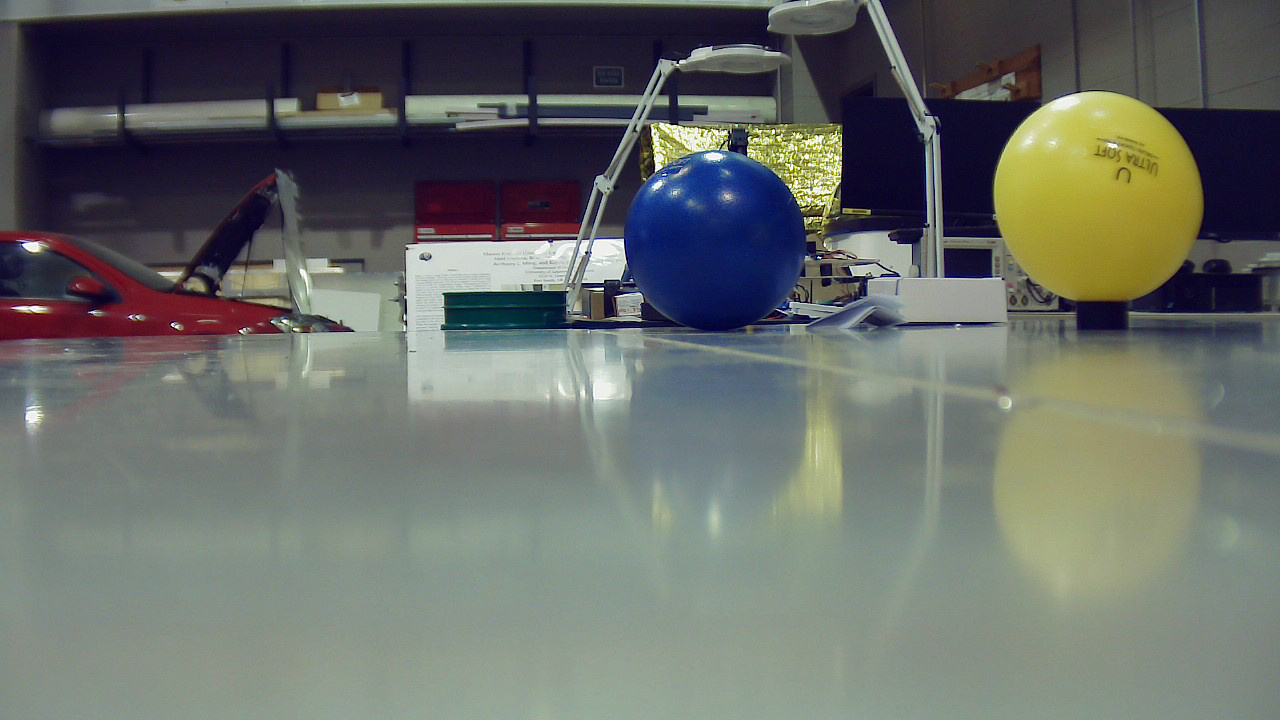blueBall: (628, 153, 813, 340)
yellowBall: (993, 96, 1213, 310)
